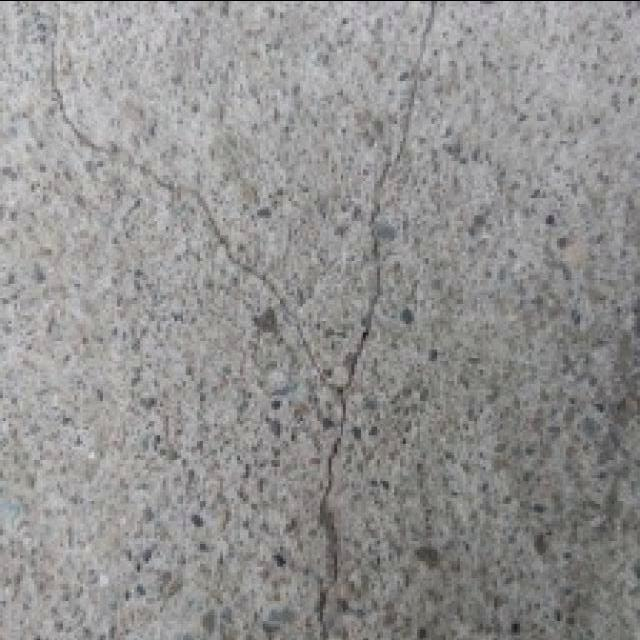SurfaceCrack: (14, 0, 366, 402), (270, 0, 466, 640)
